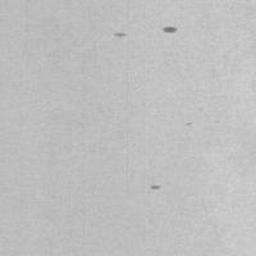Inclusion: (163, 26, 177, 33), (114, 32, 127, 37), (151, 185, 160, 190)
